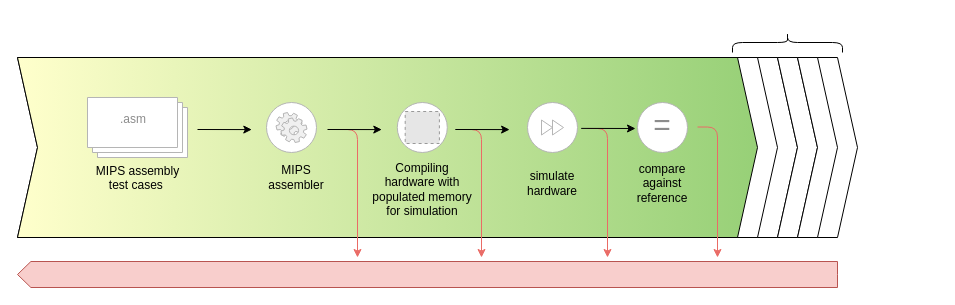
The diagram is 955 pixels wide and 305 high, and some of its shapes have lost their labels. Grey dashed boxes stand in for pictures. Each missing label, with the centre of its shape:
"repeated for all units" goes at point 787,42.
"Test failed" goes at point 427,274.
